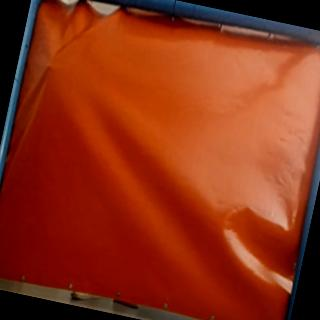Hit-hRxx: (40, 60, 56, 73)
